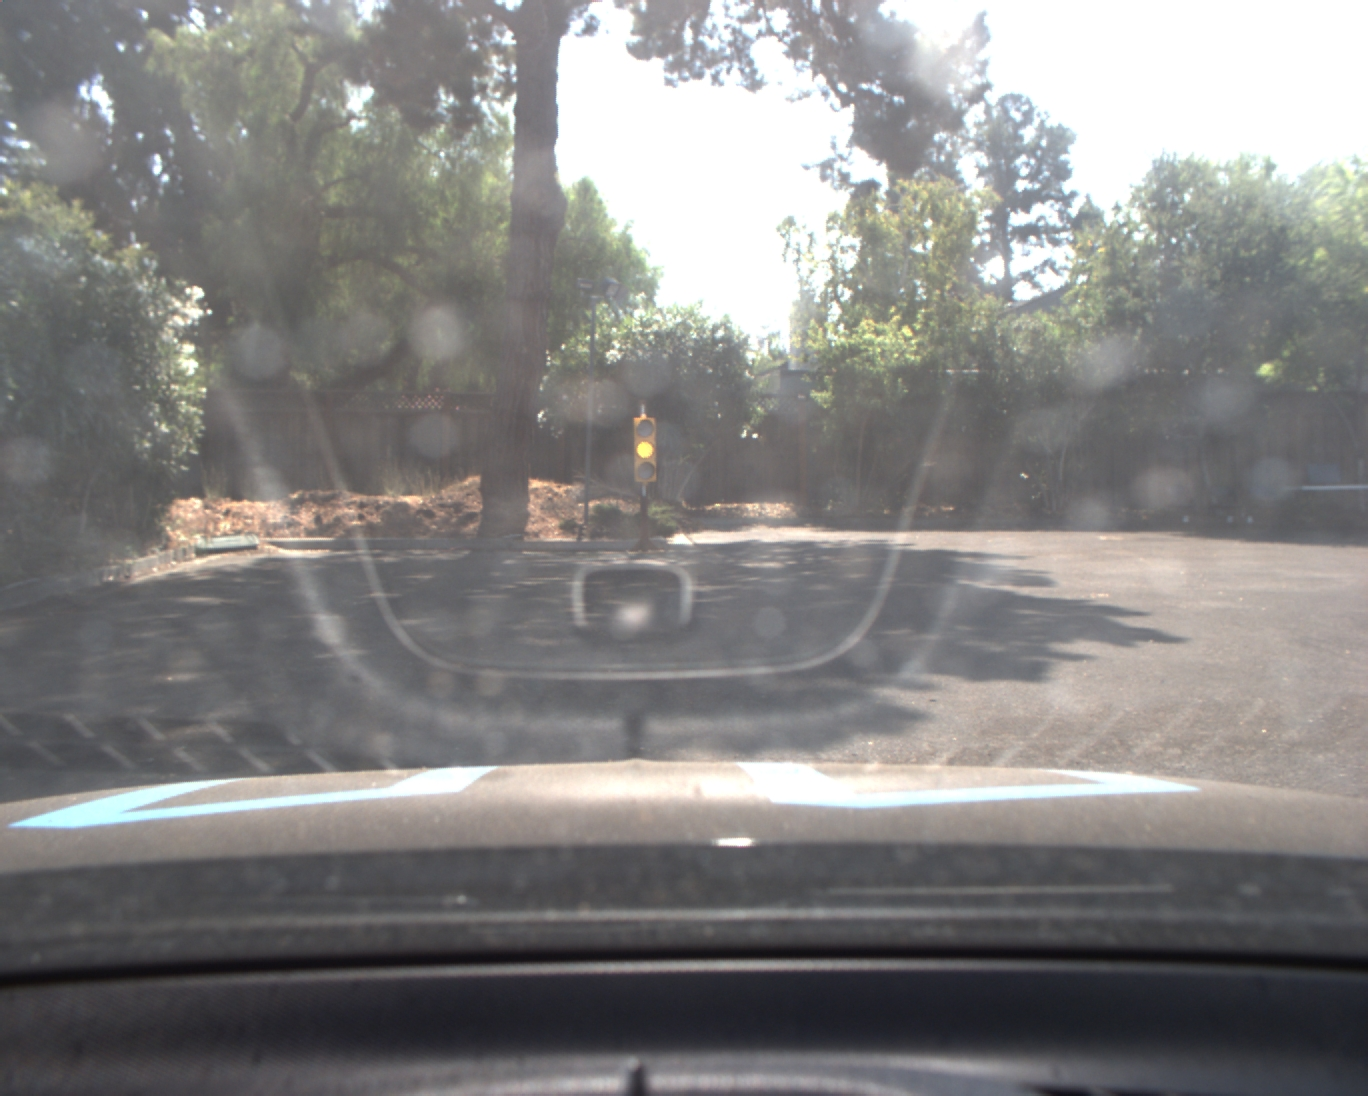yellow: (635, 414, 659, 485)
